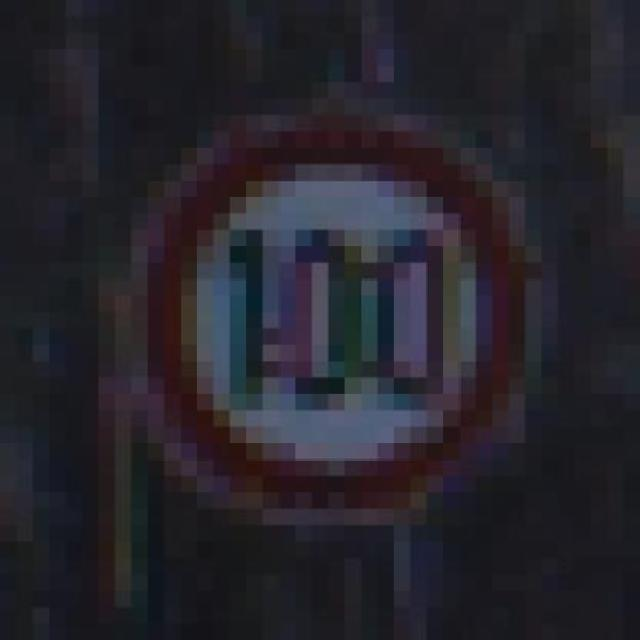forb_speed_over_100: (140, 116, 525, 512)
